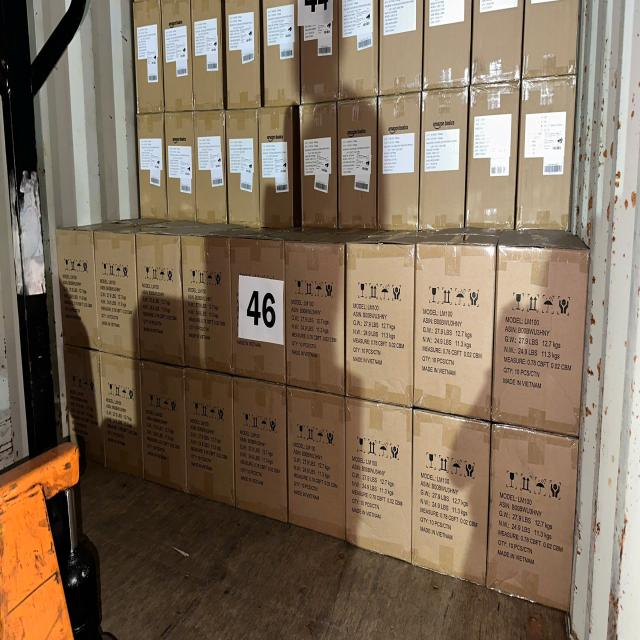Carton: (500, 248, 590, 444), (491, 424, 578, 609), (411, 411, 490, 587), (414, 243, 493, 418), (344, 241, 414, 407), (343, 402, 413, 563), (514, 75, 578, 232), (287, 241, 350, 390), (288, 393, 350, 542), (464, 80, 523, 234), (230, 236, 286, 382), (236, 383, 291, 526), (417, 85, 470, 232), (181, 234, 236, 373), (186, 370, 238, 506), (376, 89, 422, 233), (135, 232, 185, 364), (139, 364, 187, 492), (52, 231, 101, 356), (335, 96, 379, 231), (96, 230, 142, 358), (60, 342, 108, 464), (298, 98, 339, 230), (102, 356, 145, 478), (527, 0, 583, 76), (422, 0, 470, 88), (472, 0, 523, 82), (260, 108, 294, 231), (381, 0, 426, 91), (223, 0, 260, 105), (302, 0, 340, 100), (340, 0, 379, 97), (263, 0, 300, 102), (225, 110, 257, 226), (196, 112, 227, 224), (193, 0, 225, 108), (165, 0, 194, 110), (133, 1, 161, 112), (168, 114, 196, 222), (136, 114, 164, 221)
